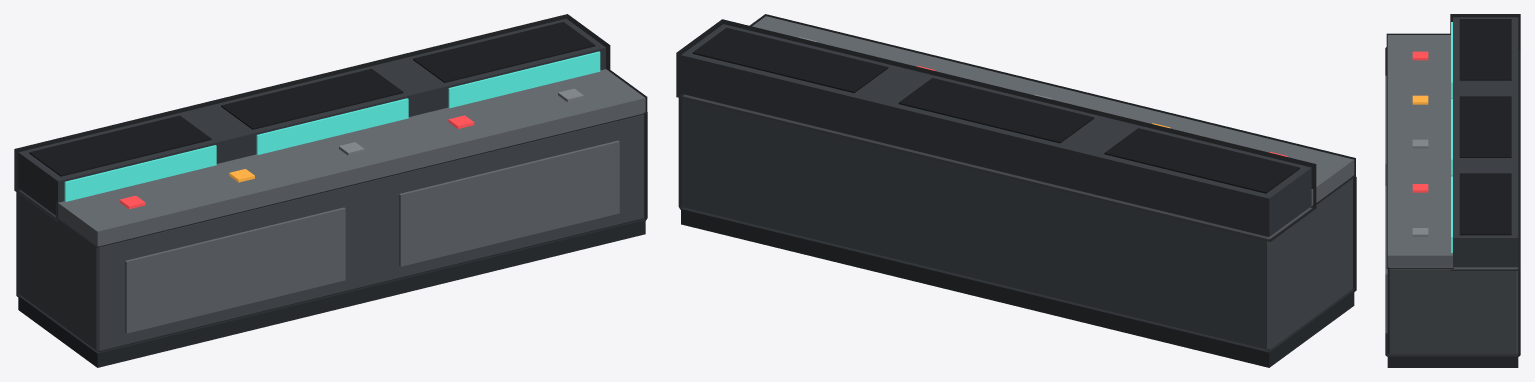
File: SM_Console.glb
3 renders of one model, left to right at view 1: azimuth 30°, elevation 25°; view 2: azimuth 150°, elevation 25°; view 3: azimuth 270°, elevation 25°, orthographic. The views are drawn at different scales.
Parts seen in each view (by area): view 1: SM_Console, SM_Console_Outline; view 2: SM_Console, SM_Console_Outline; view 3: SM_Console, SM_Console_Outline.
Part boxes in pixels (x1=…): SM_Console: x1=18, y1=18, x2=645, y2=367; SM_Console_Outline: x1=14, y1=14, x2=647, y2=297; SM_Console: x1=681, y1=16, x2=1354, y2=367; SM_Console_Outline: x1=676, y1=14, x2=1356, y2=292; SM_Console: x1=1385, y1=17, x2=1518, y2=367; SM_Console_Outline: x1=1385, y1=14, x2=1520, y2=356.
Bounding box in the file's own units: 4.04 × 1.12 × 1.04.
Materials: 2 (1 with a texture image).
